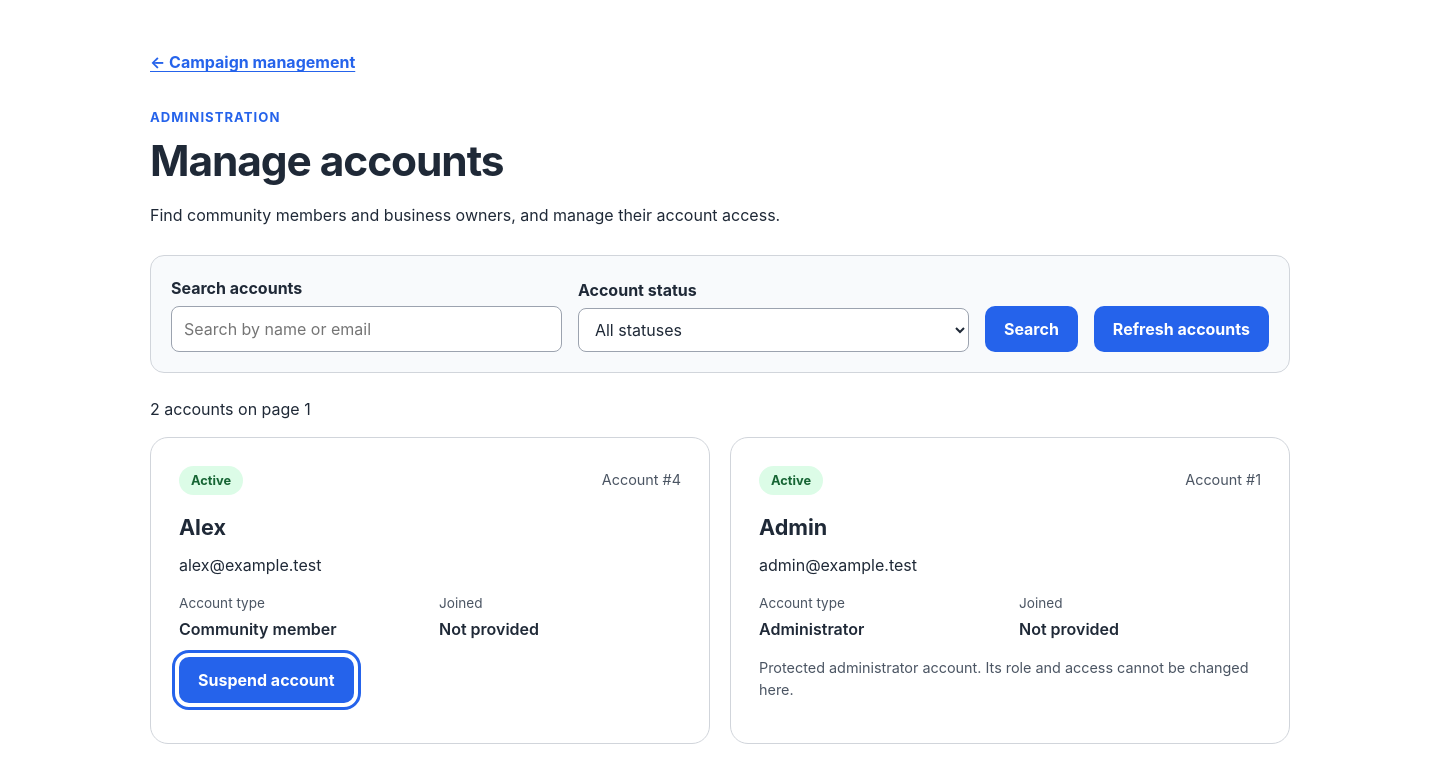
Test: administrator account management › cancels with Escape and restores focus to the original action
The image size is (1440, 772).
Step 1. Click the button named "Suspend account: Alex" → (266, 680), box [179, 657, 354, 703]
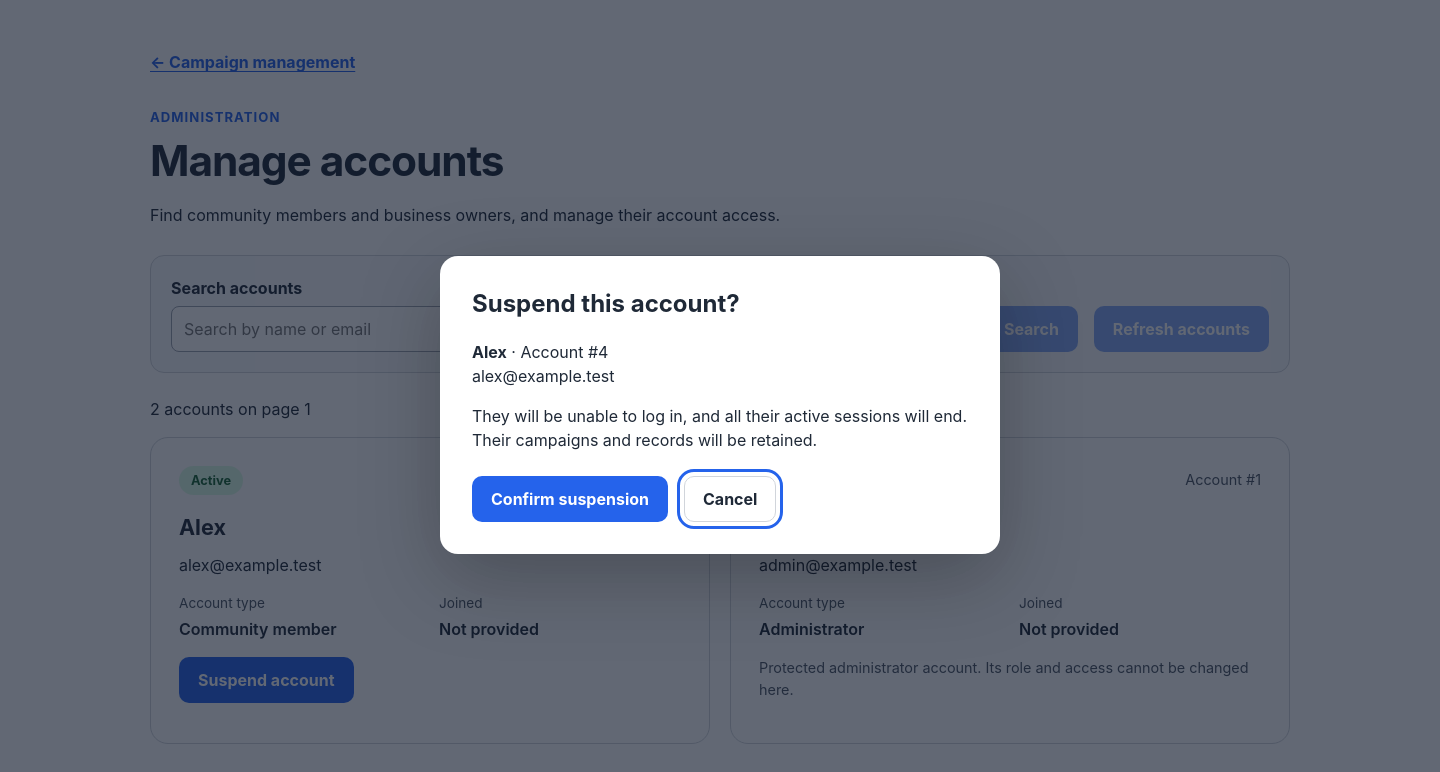
Step 2. Press Escape in the dialog, box [440, 256, 1000, 554]
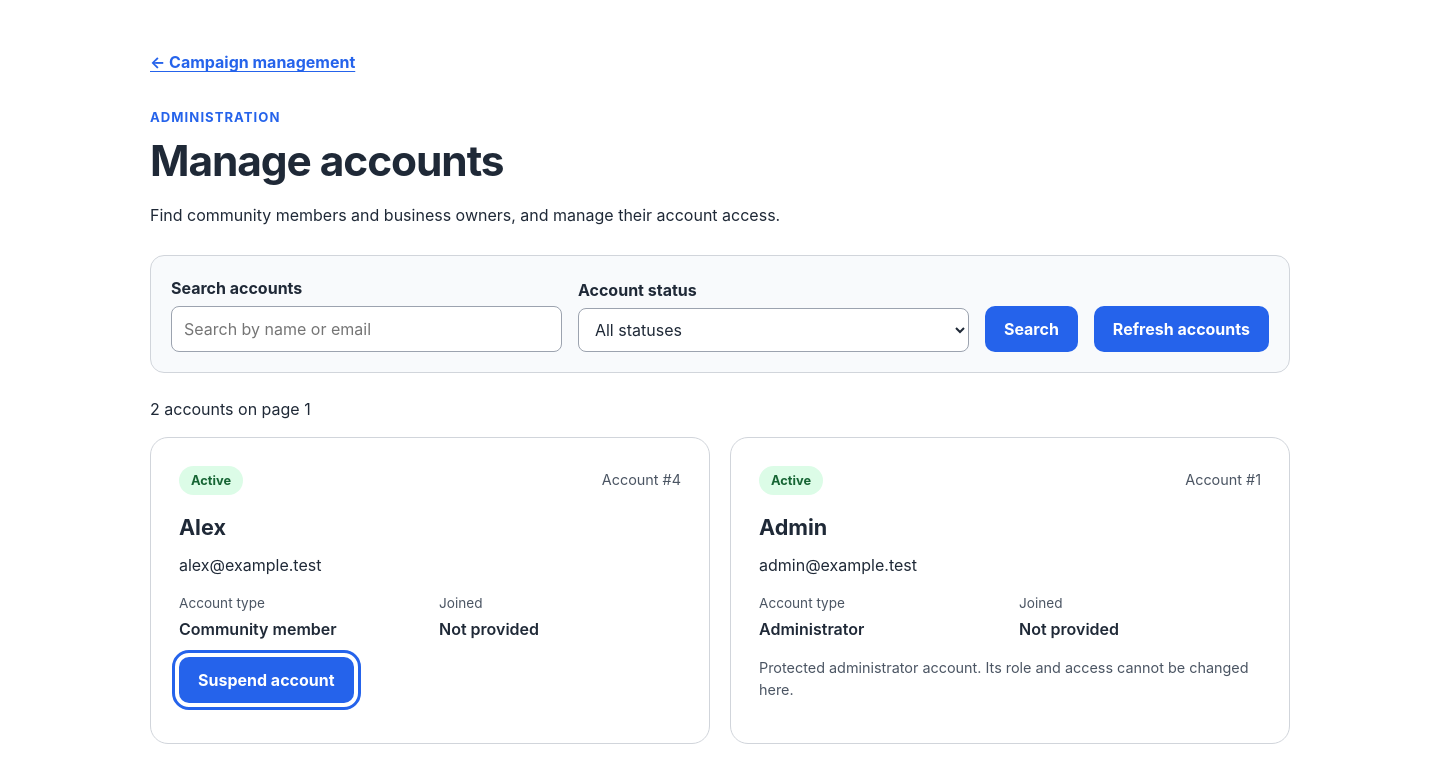
Expected: the dialog is gone
